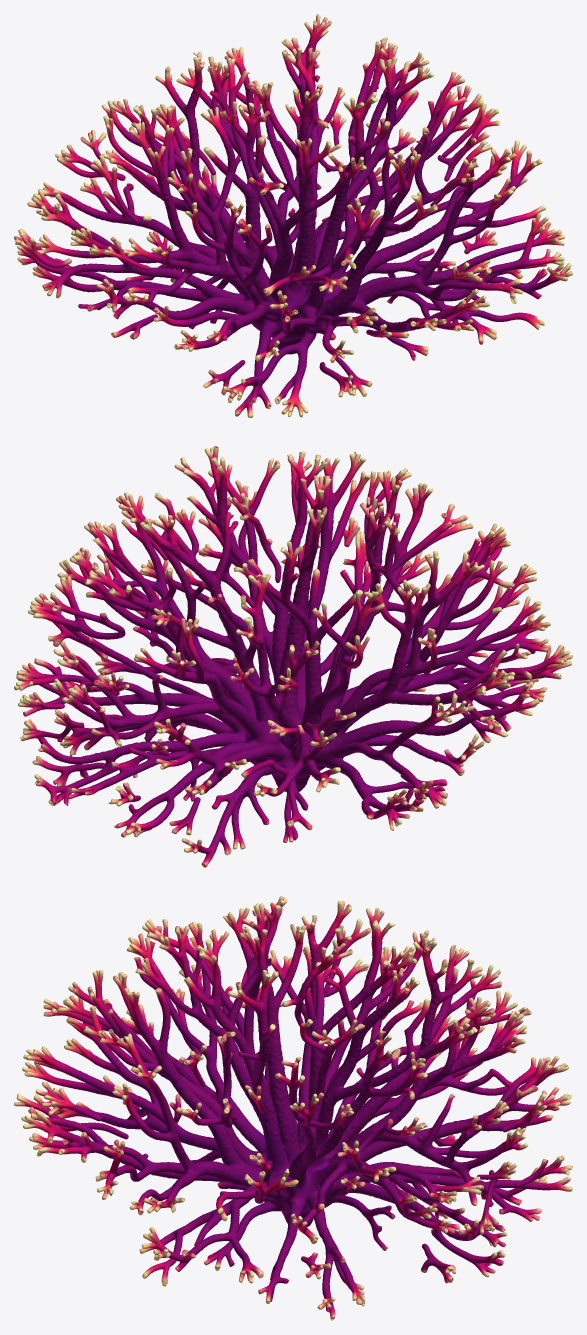
Rendered from fan_coral.glb.
3 renders of one model, top to bottom at view 1: azimuth 30°, elevation 25°; view 2: azimuth 150°, elevation 25°; view 3: azimuth 270°, elevation 25°, orthographic. The views are drawn at different scales.
Size of the model in its own units: 1.89 by 1.13 by 1.9.
1 material, 1 textured.
